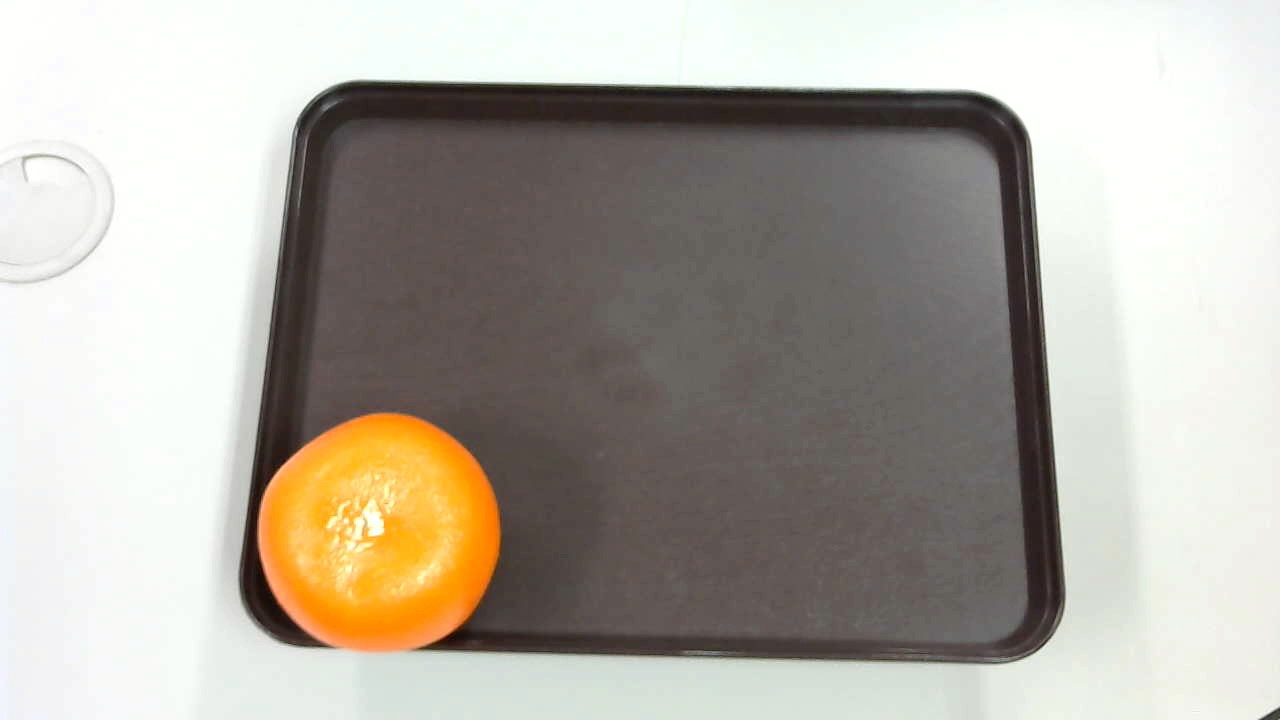orange: (203, 403, 529, 663)
